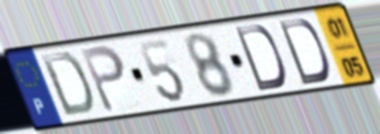5: (134, 36, 189, 105)
8: (184, 31, 236, 99)
D: (37, 50, 98, 119), (276, 17, 333, 88), (232, 23, 289, 94)
P: (77, 42, 129, 115)
